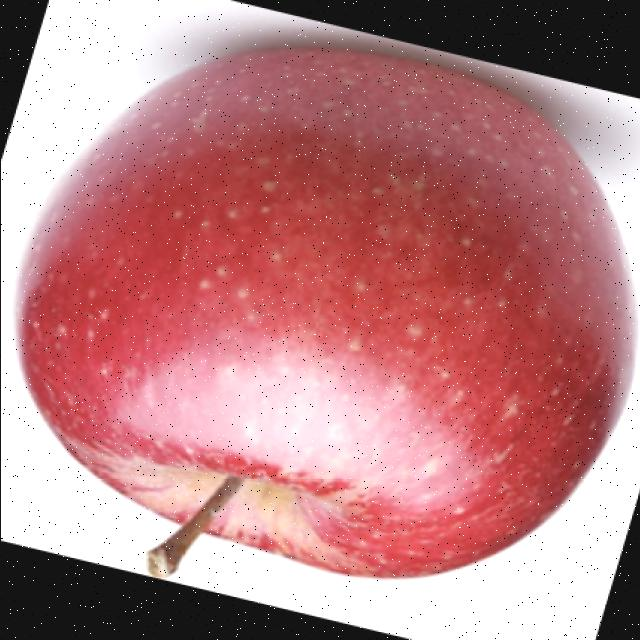Ripe: (9, 44, 640, 586)
